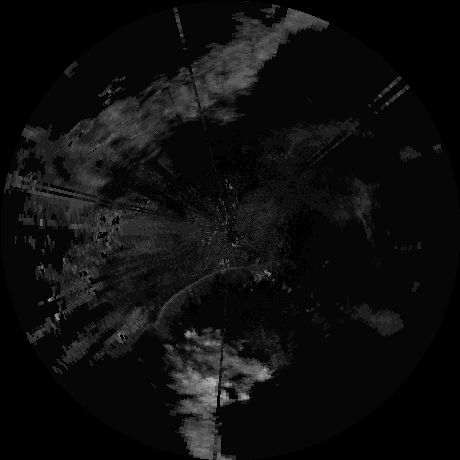frontgust: (156, 265, 252, 326)
